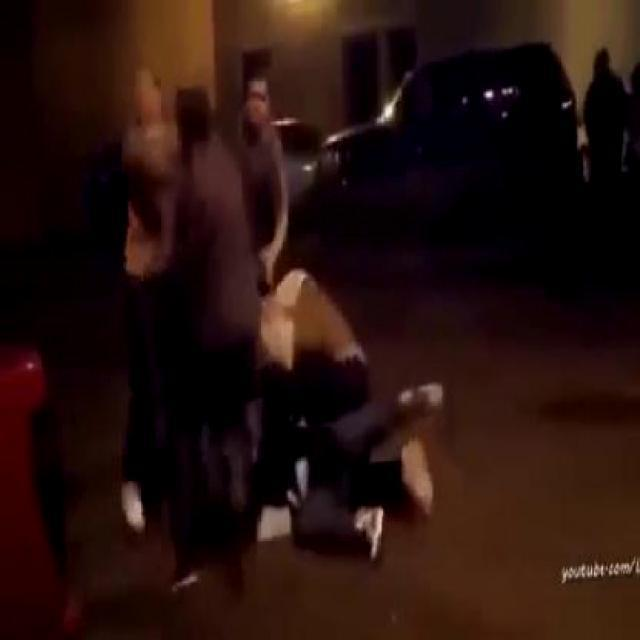fight: (199, 274, 450, 558), (118, 69, 254, 334)
